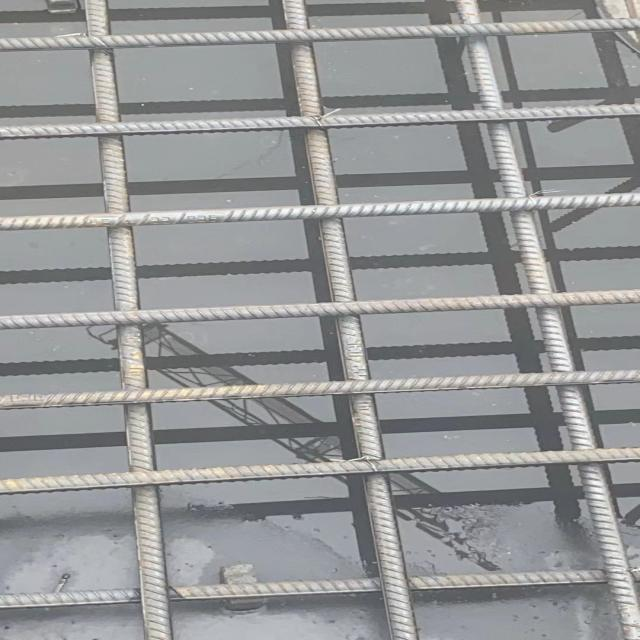ribbed bar: (451, 0, 638, 639), (282, 0, 419, 639), (84, 0, 173, 639), (0, 447, 639, 495), (0, 288, 639, 331), (0, 567, 639, 610), (0, 101, 639, 142), (0, 192, 639, 232), (0, 370, 639, 409), (0, 16, 639, 52)
